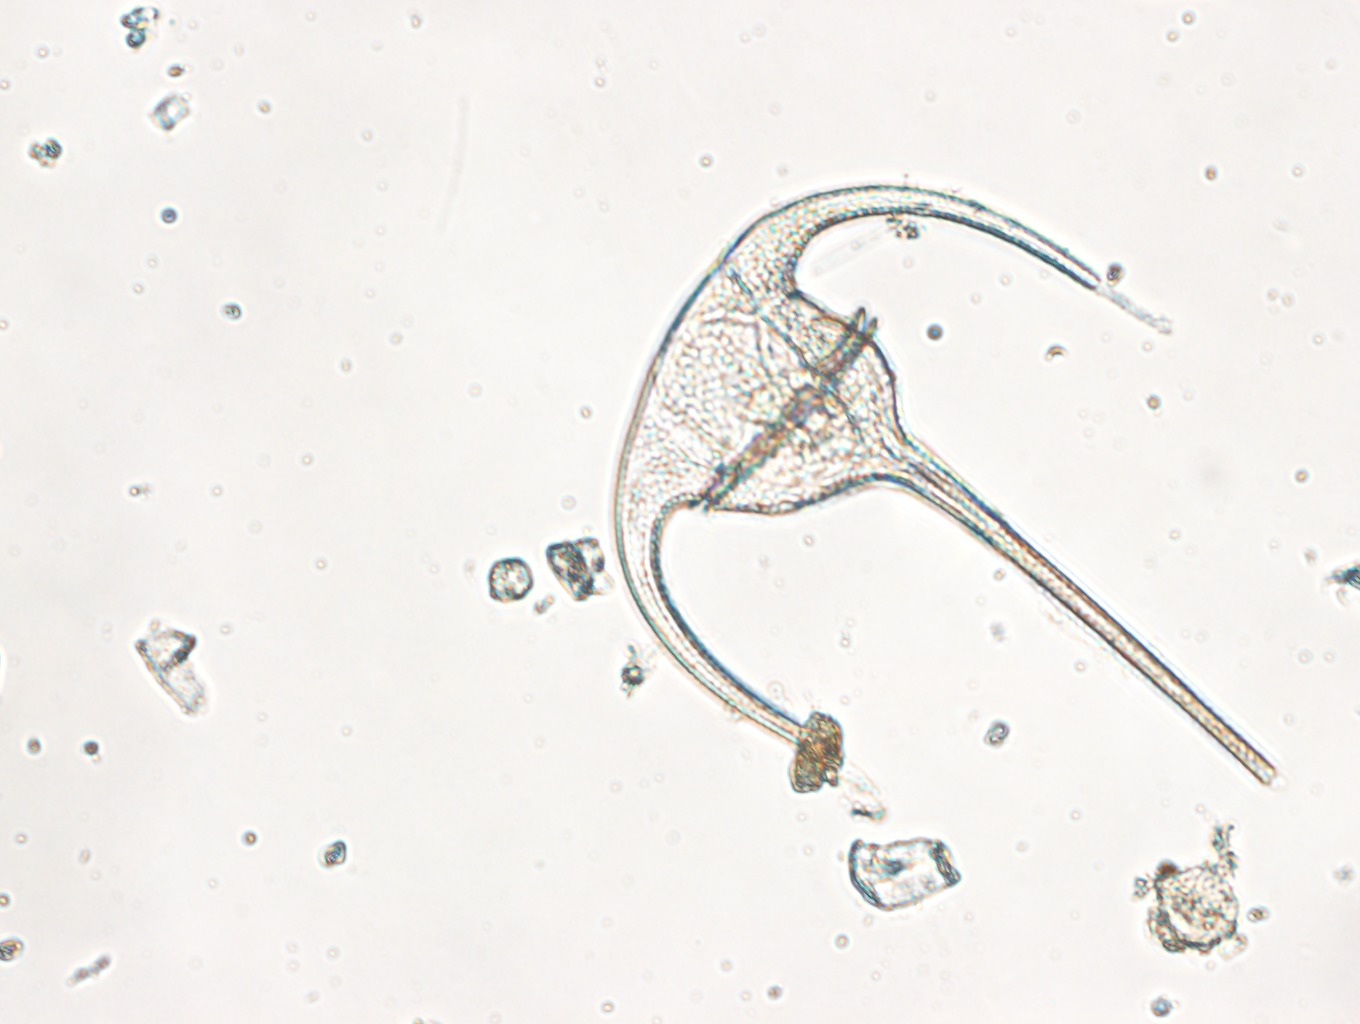ceratium tripos: (611, 182, 1279, 784)
